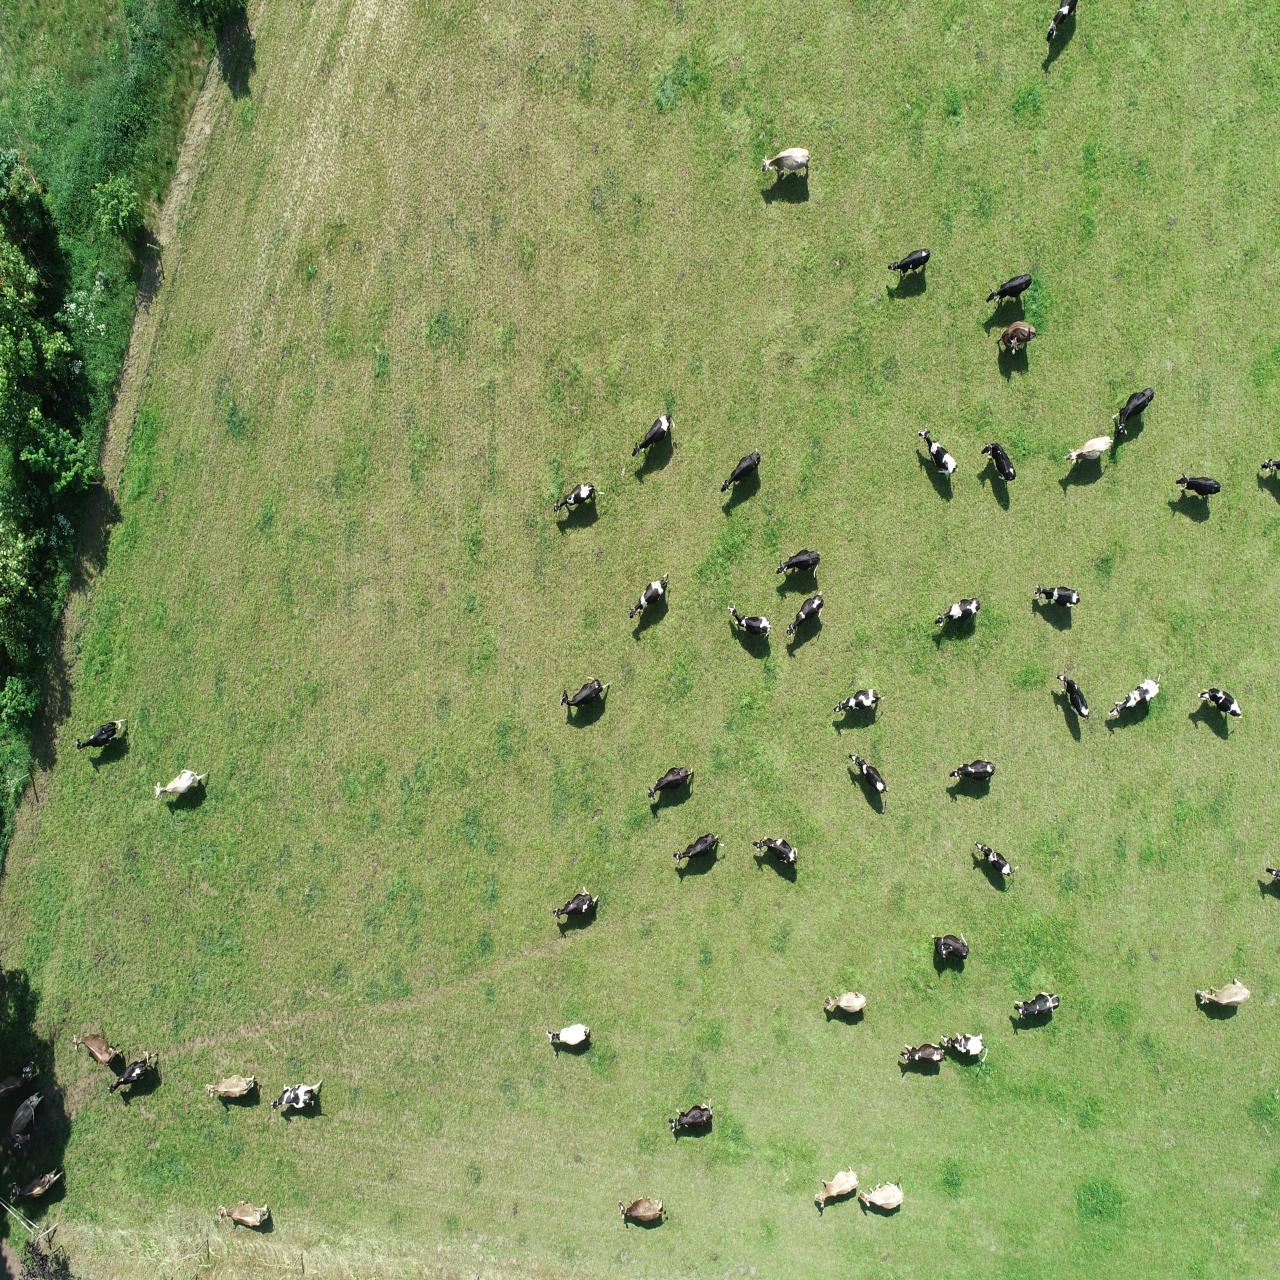cow: (6, 1164, 69, 1212), (1107, 672, 1165, 722), (1108, 382, 1158, 437), (105, 1049, 161, 1098), (4, 1088, 46, 1149), (972, 832, 1020, 884), (812, 1163, 859, 1216), (151, 767, 216, 804), (914, 425, 959, 479), (1192, 972, 1253, 1010), (266, 1077, 324, 1118), (74, 715, 129, 757), (629, 411, 678, 459), (719, 445, 765, 495), (845, 749, 891, 799), (550, 481, 606, 520), (626, 571, 672, 619), (68, 1029, 123, 1069), (1194, 681, 1245, 724), (856, 1175, 908, 1216), (202, 1070, 258, 1108), (784, 590, 825, 640), (940, 1027, 992, 1067), (646, 762, 694, 804), (758, 144, 812, 182), (930, 595, 983, 633), (751, 830, 801, 871), (1054, 667, 1090, 722), (672, 830, 730, 864), (551, 884, 600, 924), (557, 674, 612, 709), (215, 1198, 270, 1233), (982, 272, 1034, 308), (724, 601, 771, 640), (769, 546, 822, 580), (614, 1192, 667, 1226), (980, 440, 1015, 490), (667, 1095, 714, 1132), (545, 1017, 593, 1054), (1012, 987, 1061, 1022), (994, 319, 1039, 356), (1062, 433, 1115, 464), (898, 1039, 946, 1073), (1172, 469, 1221, 502), (928, 928, 972, 965), (948, 756, 998, 788), (886, 245, 932, 279), (822, 987, 867, 1021), (1033, 581, 1081, 612), (831, 688, 885, 714)
